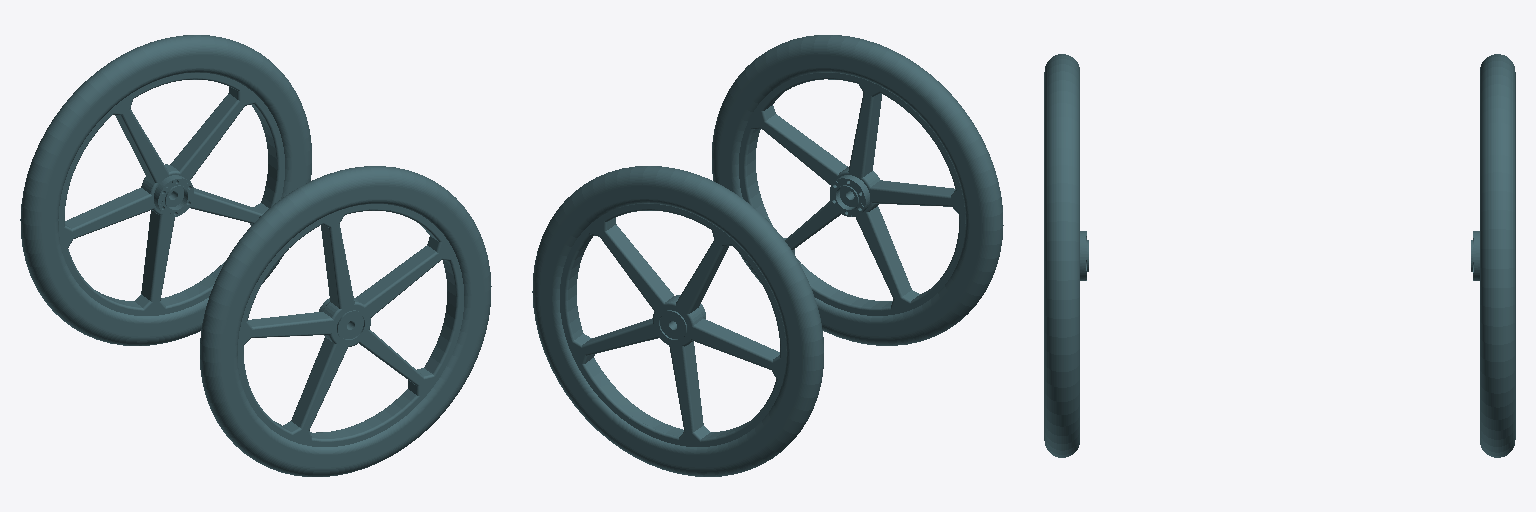
URDF robot description (kit_c4):
<?xml version="1.0"?>
<robot name="kit_c4">

  <!-- base_foot_print -->
  <link name="base_footprint"/>

  <!-- base_link -->
  <link name="base_link">
	<visual>
	  <geometry>
		<mesh filename="package://fourth_robot_description/meshes/DAE/body.dae" />
	  </geometry>
	</visual>
  </link>

  <joint name="base_footprint_to_base_link" type="fixed">
	<parent link="base_footprint"/>
	<child link="base_link"/>
	<origin rpy="0 0 0" xyz="0 0 0.20316"/>
  </joint>

  <!-- wheels -->
  <!-- right_wheel -->
  <link name="right_wheel">
	<visual>
	  <geometry>
		<mesh filename="package://fourth_robot_description/meshes/DAE/wheel.dae"/>
	  </geometry>
	</visual>
  </link>

  <joint name="base_link_to_right_wheel" type="fixed">
	<parent link="base_link"/>
	<child link="right_wheel"/>
	<origin rpy="0 0 0" xyz="0 -0.214375 0"/>
  </joint>

  <!-- left_wheel -->
  <link name="left_wheel">
	<visual>
	  <geometry>
		<mesh filename="package://fourth_robot_description/meshes/DAE/wheel.dae"/>
	  </geometry>
	</visual>
  </link>

  <joint name="base_link_to_left_wheel" type="fixed">
	<parent link="base_link"/>
	<child link="left_wheel"/>
	<origin rpy="3.141592 0 0" xyz="0 0.214375 0"/>
  </joint>

  <!-- sensors -->
  <!-- base_sensor -->
  <link name="base_sensor"/>

  <joint name="base_link_to_base_sensor" type="fixed">
	<parent link="base_link"/>
	<child link="base_sensor"/>
	<origin rpy="0 0 0" xyz="0 0 0"/>
  </joint>

  <!-- base_scan -->
  <link name="base_scan"/>

  <joint name="base_sensor_to_base_scan" type="fixed">
	<parent link="base_sensor"/>
	<child link="base_scan"/>
	<origin rpy="0 0 0" xyz="0 0 0"/>
  </joint>
  
  <!-- gps -->
  <link name="gps">
	<visual>
	  <geometry>
		<mesh filename="package://fourth_robot_description/meshes/DAE/gps.dae"/>
	  </geometry>
	</visual>
  </link>

  <joint name="base_sensor_to_gps" type="fixed">
	<parent link="base_sensor"/>
	<child link="gps"/>
	<origin rpy="0 0 -3.141592" xyz="-0.06229 0 0.420552"/>
  </joint>

  <!-- front_scan -->
  <link name="front_scan">
	<visual>
	  <geometry>
		<mesh filename="package://fourth_robot_description/meshes/DAE/front_lrf.dae"/>
	  </geometry>
	</visual>
  </link>

  <joint name="base_scan_to_front_scan" type="fixed">
	<parent link="base_scan"/>
	<child link="front_scan"/>
	<origin rpy="0 0 0 " xyz="0.208 0 -0.0282"/>
  </joint>

  <!-- rear_scan -->
  <link name="rear_scan">
	<visual>
	  <geometry>
		<mesh filename="package://fourth_robot_description/meshes/DAE/rear_lrf.dae"/>
	  </geometry>
	</visual>
  </link>

  <joint name="base_scan_to_rear_scan" type="fixed">
	<parent link="base_scan"/>
	<child link="rear_scan"/>
	<origin rpy="0 -3.141592 0" xyz="-0.452 0 -0.0309"/>
  </joint>

  <!-- gim30_scan -->
  <link name="gim30_scan">
	<visual>
	  <geometry>
		<mesh filename="package://fourth_robot_description/meshes/DAE/gim30.dae"/>
	  </geometry>
	</visual>
  </link>

  <joint name="base_scan_to_gim30_scan" type="fixed">
	<parent link="base_scan"/>
	<child link="gim30_scan"/>
	<origin rpy="0 0 0" xyz="0.12395931 0 0.24578237"/>
  </joint>

  
</robot>

--- Facts derived from the render (not from the file) ---
The picture shows the robot from 3 angles, left to right: view 1: azimuth 30°, elevation 25°; view 2: azimuth 150°, elevation 25°; view 3: azimuth 270°, elevation 25°; orthographic projection.
Robot: kit_c4 — 10 links, 9 joints (9 fixed); root link base_footprint; default pose: all joints at 0.
Visible links, largest first — view 1: right_wheel, left_wheel; view 2: left_wheel, right_wheel; view 3: right_wheel, left_wheel.
Boxes of the visible links, x1,y1,x2,y2 form: right_wheel: (200,166,491,476); left_wheel: (20,35,311,345); left_wheel: (532,166,823,476); right_wheel: (712,35,1003,345); right_wheel: (1044,54,1088,457); left_wheel: (1471,54,1515,457).
Size in the robot's own frame: 0.4063 by 0.4738 by 0.4063 metres.
2 mesh visuals loaded from 6 distinct referenced files (1 Collada DAE); not drawn: 5 (reference not matched to a file when rendering).